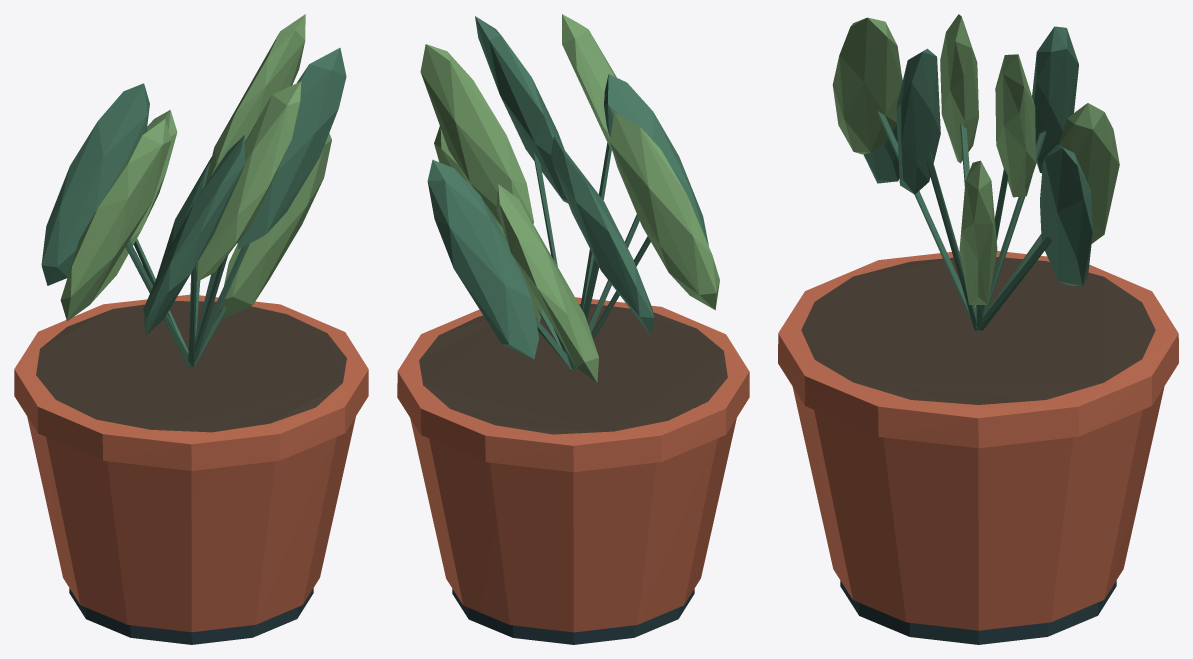
File: broadleaf-planter-near.glb
3 renders of one model, left to right at view 1: azimuth 30°, elevation 25°; view 2: azimuth 150°, elevation 25°; view 3: azimuth 270°, elevation 25°, orthographic. The views are drawn at different scales.
Visible parts, largest first — view 1: broadleaf-planter; view 2: broadleaf-planter; view 3: broadleaf-planter.
Boxes of the visible parts, x1=… form: broadleaf-planter: x1=14, y1=14, x2=368, y2=644; broadleaf-planter: x1=397, y1=14, x2=749, y2=644; broadleaf-planter: x1=778, y1=14, x2=1178, y2=644.
Bounding box in the file's own units: 1.16 × 1.92 × 1.16.
